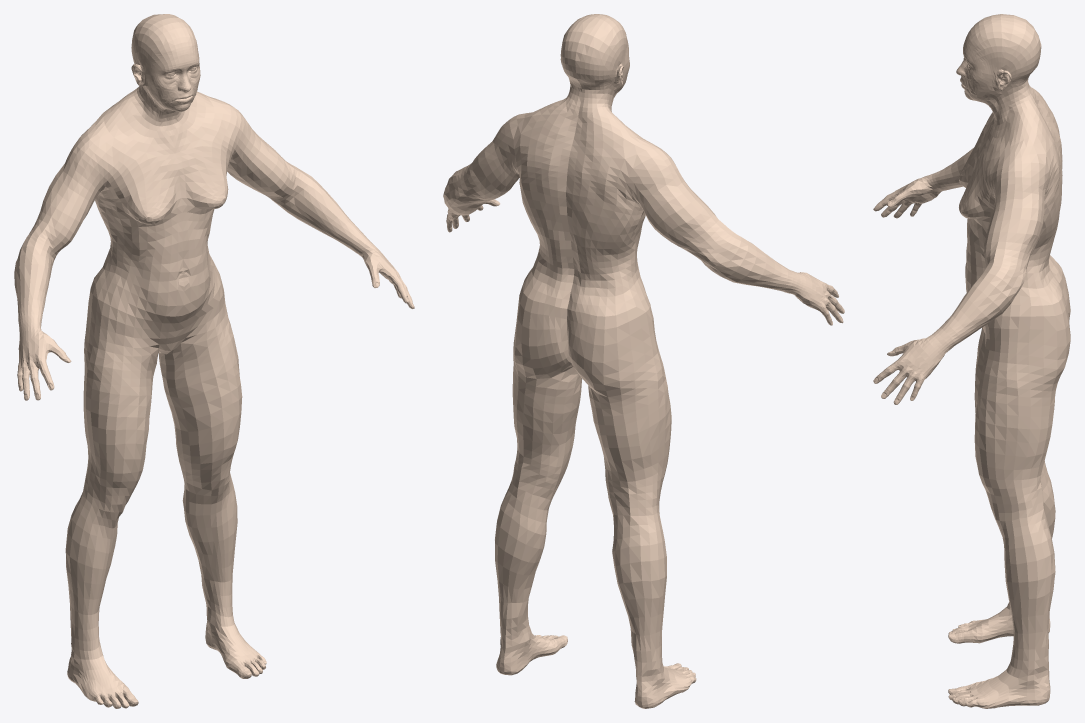
The model's file is female-older-max-high.glb.
The picture shows the model from 3 angles, left to right: view 1: azimuth 30°, elevation 25°; view 2: azimuth 150°, elevation 25°; view 3: azimuth 270°, elevation 25°; orthographic projection.
Visible parts, largest first — view 1: world; view 2: world; view 3: world.
Boxes of the visible parts, <box> form: world: <box>14,14,414,708</box>; world: <box>443,14,844,708</box>; world: <box>873,14,1070,708</box>.
Bounding box in the file's own units: 1.16 × 1.88 × 0.5162.
